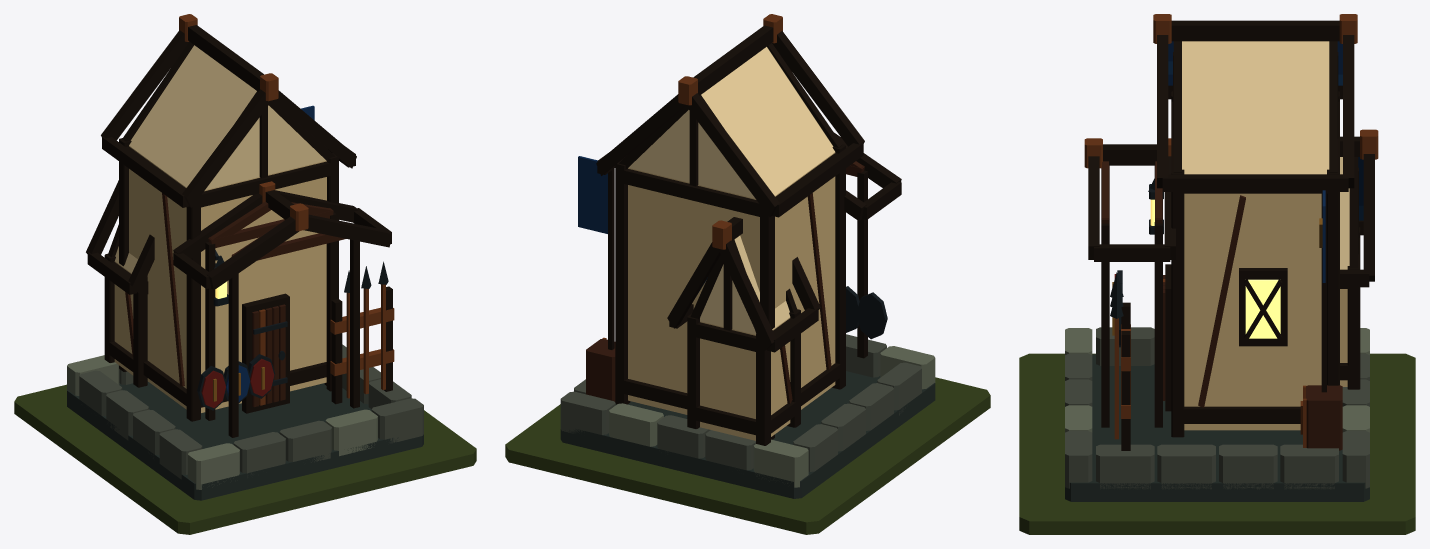
Rendered from armory_t6.glb.
3 renders of one model, left to right at view 1: azimuth 30°, elevation 25°; view 2: azimuth 150°, elevation 25°; view 3: azimuth 270°, elevation 25°, orthographic. The views are drawn at different scales.
Parts seen in each view (by area): view 1: MMR | armory | T06 Architecture.001, MMR | armory | Tier 06 Ground.001; view 2: MMR | armory | T06 Architecture.001, MMR | armory | Tier 06 Ground.001; view 3: MMR | armory | T06 Architecture.001, MMR | armory | Tier 06 Ground.001.
Boxes of the visible parts, x1,y1,x2,y2 form: MMR | armory | T06 Architecture.001: (67, 14, 423, 500); MMR | armory | Tier 06 Ground.001: (14, 384, 476, 534); MMR | armory | T06 Architecture.001: (560, 14, 935, 498); MMR | armory | Tier 06 Ground.001: (505, 377, 990, 534); MMR | armory | T06 Architecture.001: (1065, 14, 1378, 501); MMR | armory | Tier 06 Ground.001: (1019, 353, 1415, 534).
Bounding box in the file's own units: 1.3 × 1.57 × 1.3.
2 materials, 1 textured.
